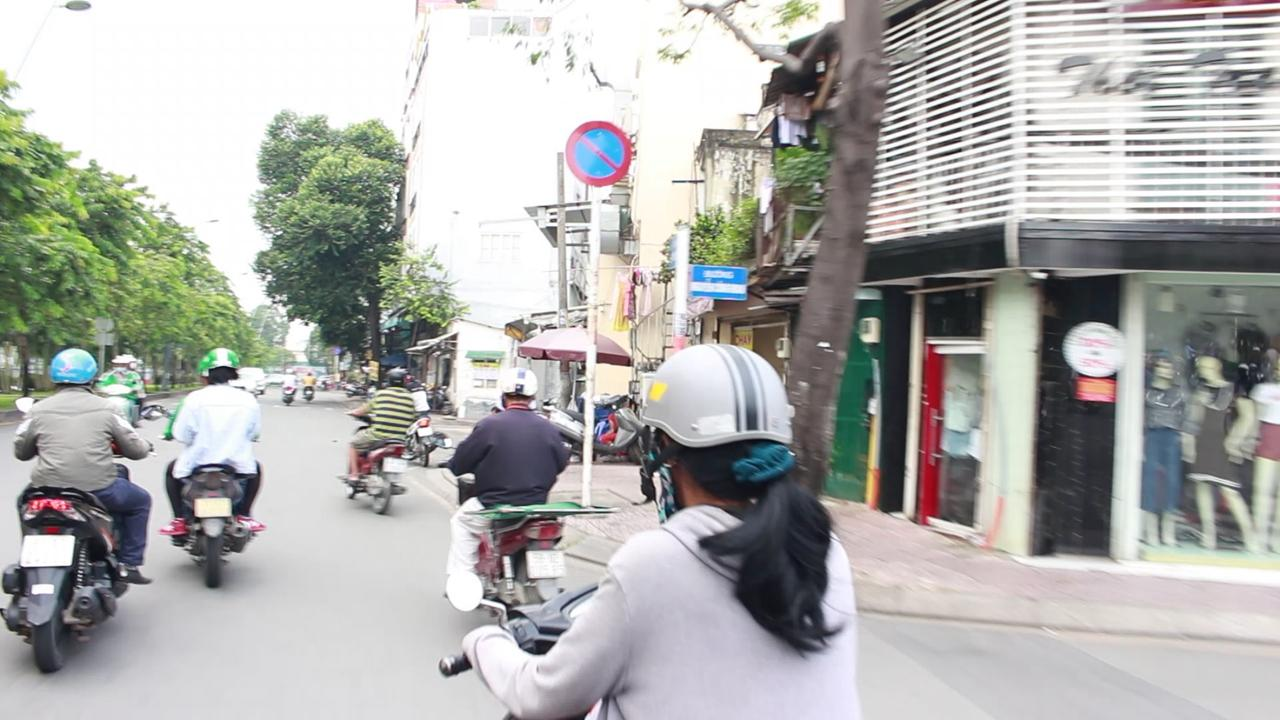P.102: (554, 111, 643, 186)
